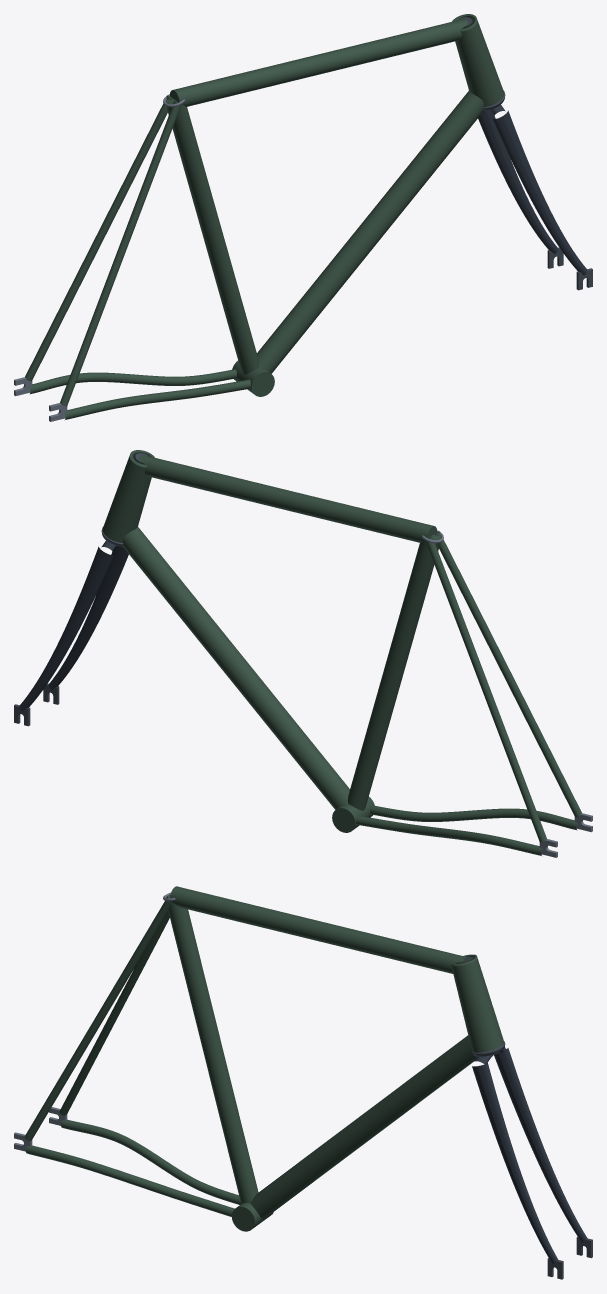
File: skream-ranger-l.glb
The picture shows the model from 3 angles, top to bottom: view 1: azimuth 30°, elevation 25°; view 2: azimuth 150°, elevation 25°; view 3: azimuth 330°, elevation 25°; orthographic projection.
Parts seen in each view (by area): view 1: paint_down, paint_top, paint_seat, paint_seatstay_1, paint_seatstay_-1, paint_head, fork_blade_1, fork_blade_-1, paint_chainstay_-1, paint_chainstay_1, paint_bottom_bracket; view 2: paint_down, paint_top, paint_seat, paint_seatstay_-1, paint_seatstay_1, paint_head, fork_blade_-1, fork_blade_1, paint_chainstay_1, paint_chainstay_-1, paint_bottom_bracket; view 3: paint_down, paint_seat, paint_top, paint_head, fork_blade_1, fork_blade_-1, paint_seatstay_1, paint_chainstay_1, paint_chainstay_-1, paint_seatstay_-1, paint_bottom_bracket.
Boxes of the visible parts, x1=… form: paint_down: x1=257, y1=91, x2=483, y2=373; paint_top: x1=170, y1=19, x2=468, y2=106; paint_seat: x1=166, y1=97, x2=259, y2=374; paint_seatstay_1: x1=60, y1=101, x2=181, y2=406; paint_seatstay_-1: x1=25, y1=95, x2=172, y2=381; paint_head: x1=452, y1=14, x2=504, y2=106; fork_blade_1: x1=493, y1=110, x2=587, y2=275; fork_blade_-1: x1=478, y1=109, x2=558, y2=253; paint_chainstay_-1: x1=29, y1=369, x2=236, y2=394; paint_chainstay_1: x1=64, y1=379, x2=250, y2=420; paint_bottom_bracket: x1=232, y1=360, x2=274, y2=396; paint_down: x1=123, y1=527, x2=349, y2=809; paint_top: x1=138, y1=455, x2=436, y2=542; paint_seat: x1=347, y1=533, x2=440, y2=810; paint_seatstay_-1: x1=425, y1=536, x2=546, y2=842; paint_seatstay_1: x1=434, y1=531, x2=581, y2=817; paint_head: x1=102, y1=450, x2=154, y2=542; fork_blade_-1: x1=19, y1=546, x2=113, y2=711; fork_blade_1: x1=48, y1=545, x2=128, y2=689; paint_chainstay_1: x1=370, y1=805, x2=577, y2=830; paint_chainstay_-1: x1=356, y1=815, x2=542, y2=856; paint_bottom_bracket: x1=332, y1=796, x2=374, y2=832; paint_down: x1=250, y1=1035, x2=477, y2=1219; paint_seat: x1=166, y1=895, x2=258, y2=1203; paint_top: x1=170, y1=886, x2=467, y2=973; paint_head: x1=451, y1=954, x2=504, y2=1052; fork_blade_1: x1=472, y1=1063, x2=558, y2=1263; fork_blade_-1: x1=494, y1=1048, x2=587, y2=1242; paint_seatstay_1: x1=24, y1=896, x2=171, y2=1141; paint_chainstay_1: x1=26, y1=1145, x2=234, y2=1216; paint_chainstay_-1: x1=61, y1=1119, x2=240, y2=1204; paint_seatstay_-1: x1=59, y1=911, x2=169, y2=1115; paint_bottom_bracket: x1=231, y1=1203, x2=273, y2=1231.
Size of the model in its own units: 1.07 by 0.602 by 0.1393.
